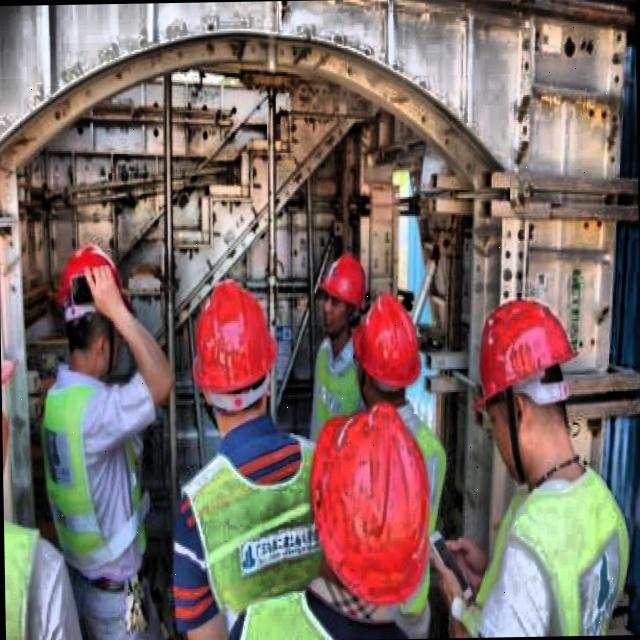helmet: (305, 398, 446, 616), (462, 287, 588, 478), (186, 276, 286, 442), (49, 236, 132, 379), (350, 294, 423, 420), (314, 253, 369, 344)
